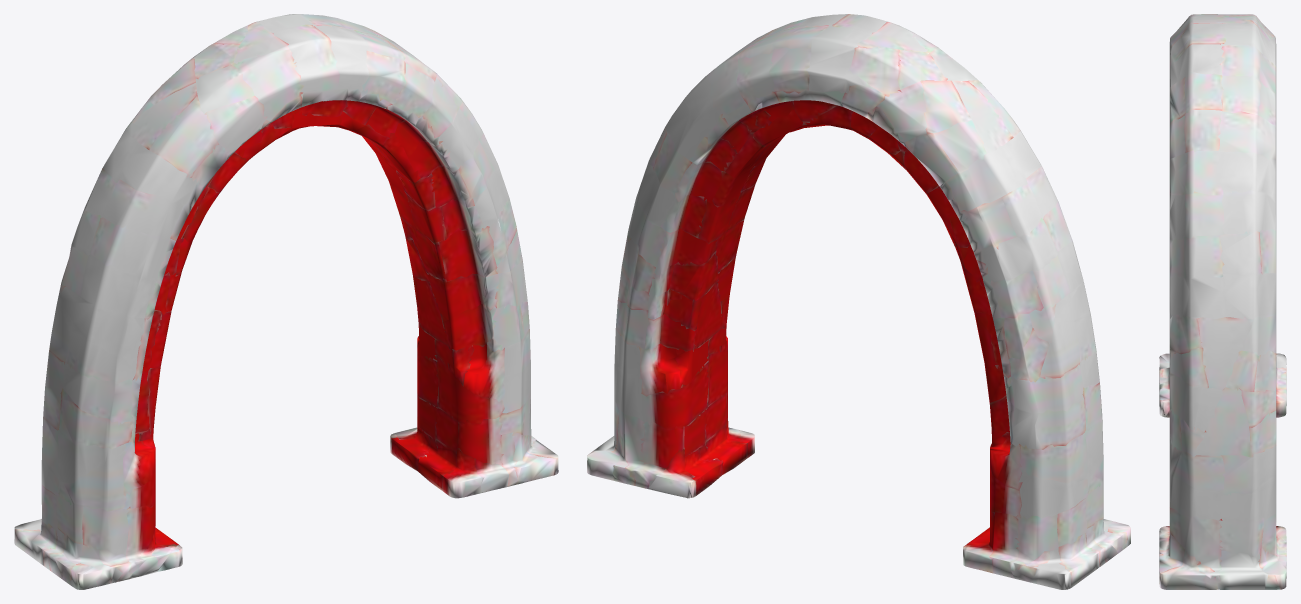
Rendered from plaza_gate.glb.
3 renders of one model, left to right at view 1: azimuth 30°, elevation 25°; view 2: azimuth 150°, elevation 25°; view 3: azimuth 270°, elevation 25°, orthographic. The views are drawn at different scales.
Size of the model in its own units: 1.9 by 1.8 by 0.4603.
1 material, 1 textured.
